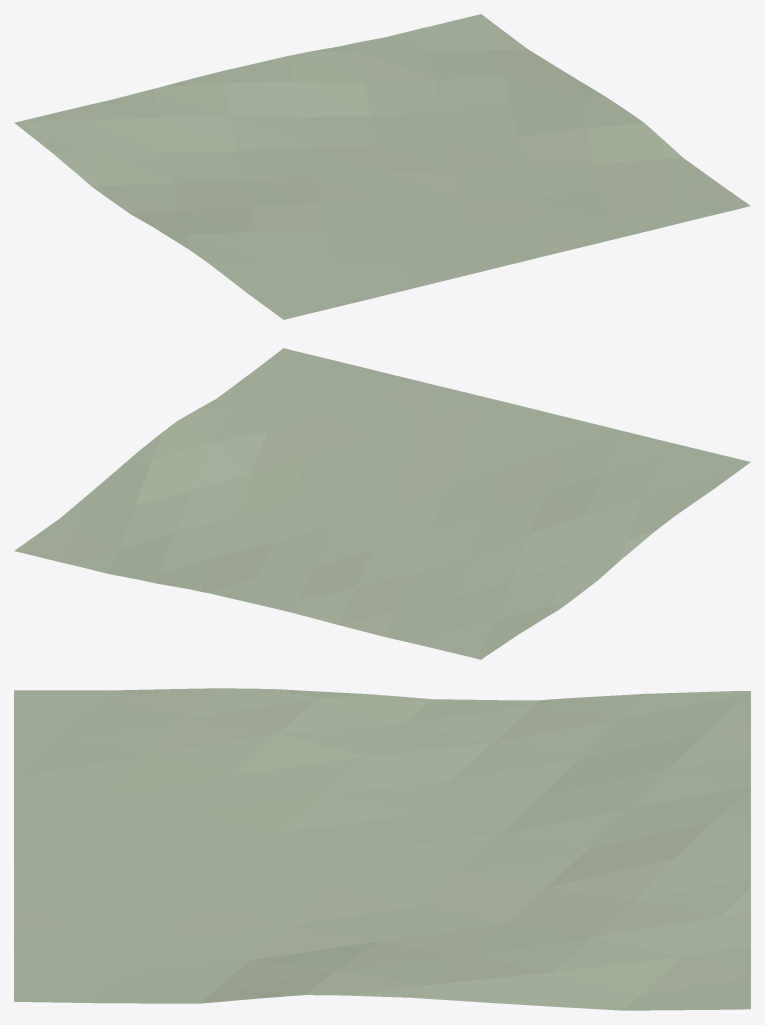
The model's file is SM_MPRR_Terrain_0_2.fbx.
3 views of the same model, one above another, from view 1: azimuth 30°, elevation 25°; view 2: azimuth 150°, elevation 25°; view 3: azimuth 270°, elevation 25° (orthographic). The views are drawn at different scales.
Visible parts, largest first — view 1: SM_MPRR_Terrain_0_2; view 2: SM_MPRR_Terrain_0_2; view 3: SM_MPRR_Terrain_0_2.
Boxes of the visible parts, left/top/right/bottom form: SM_MPRR_Terrain_0_2: left=14, top=14, right=750, bottom=319; SM_MPRR_Terrain_0_2: left=14, top=348, right=750, bottom=659; SM_MPRR_Terrain_0_2: left=14, top=688, right=750, bottom=1010.
Bounding box in the file's own units: 15000 × 15000 × 378.
